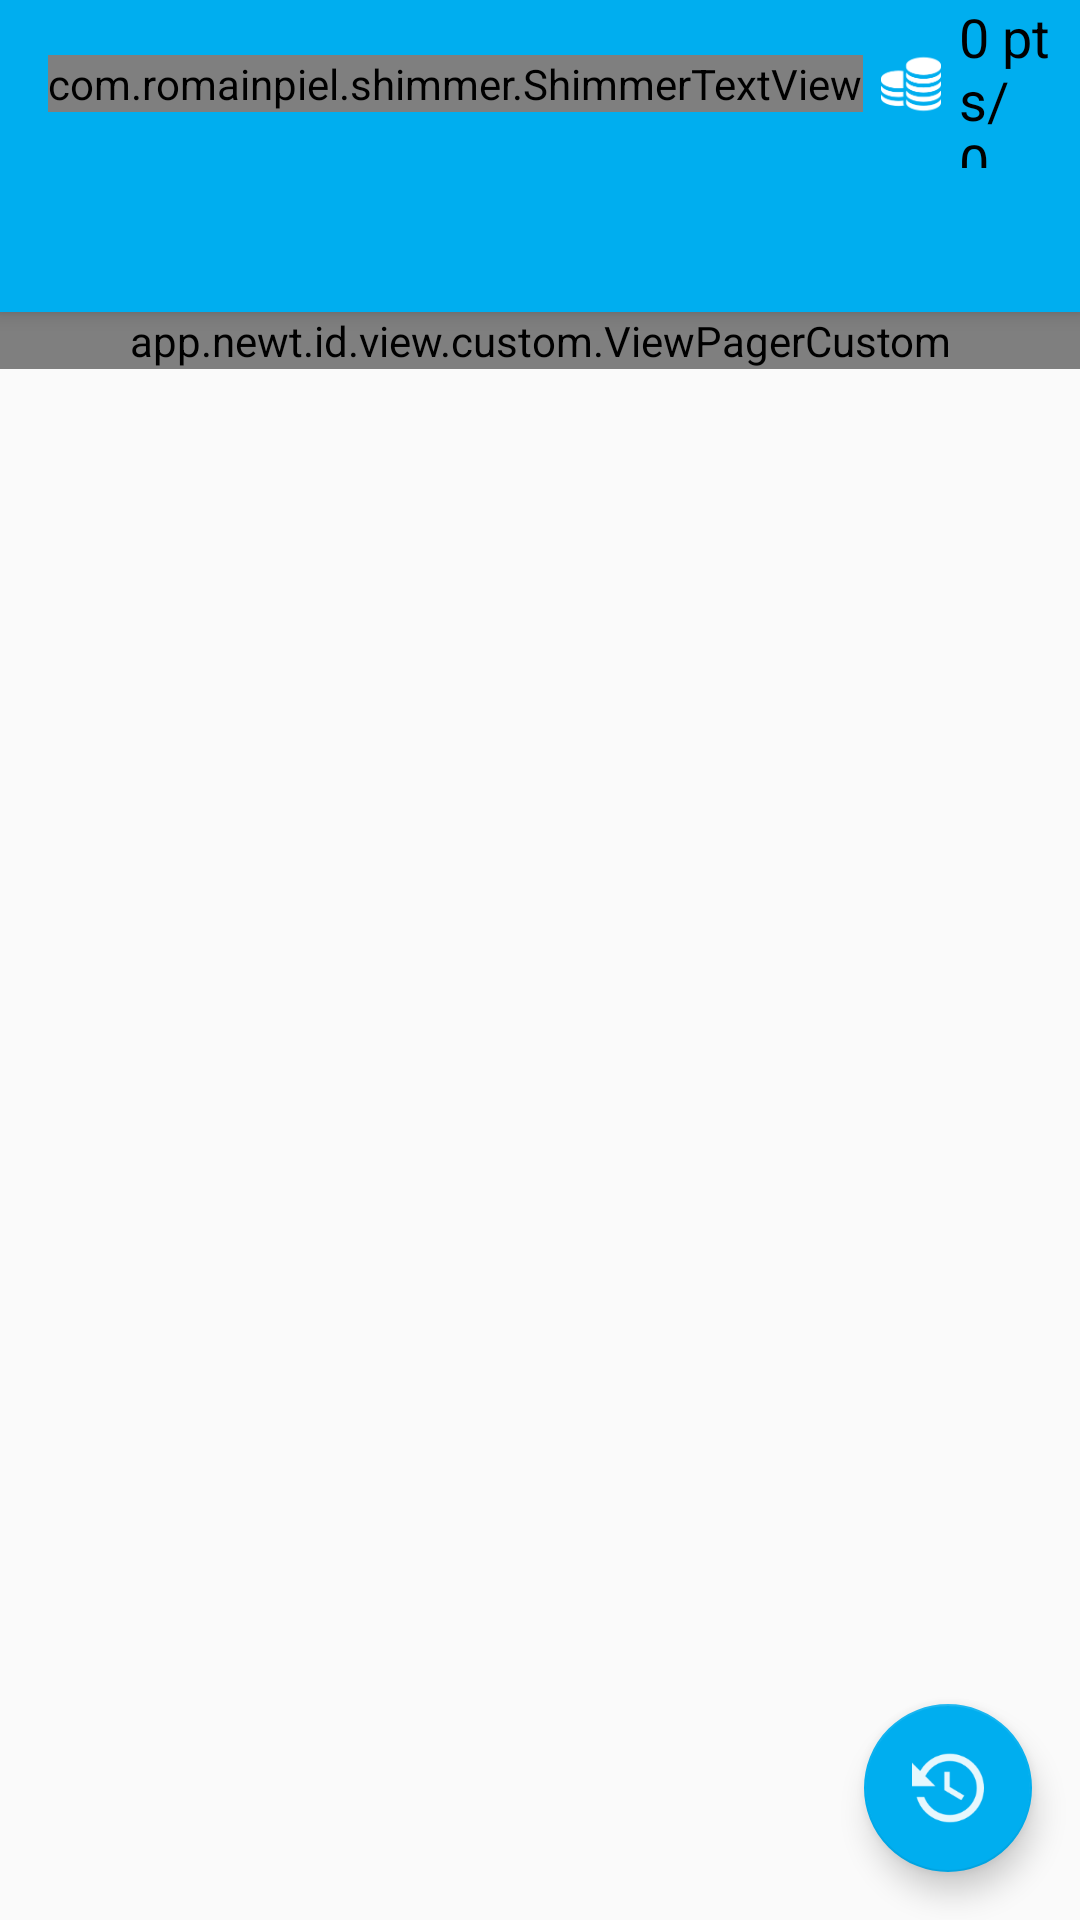

Icons on this 1080 x 1920 Android screen, each with the point to tap as (x=x, y=y):
coin stack: (x=911, y=84)
history clock: (x=948, y=1788)
